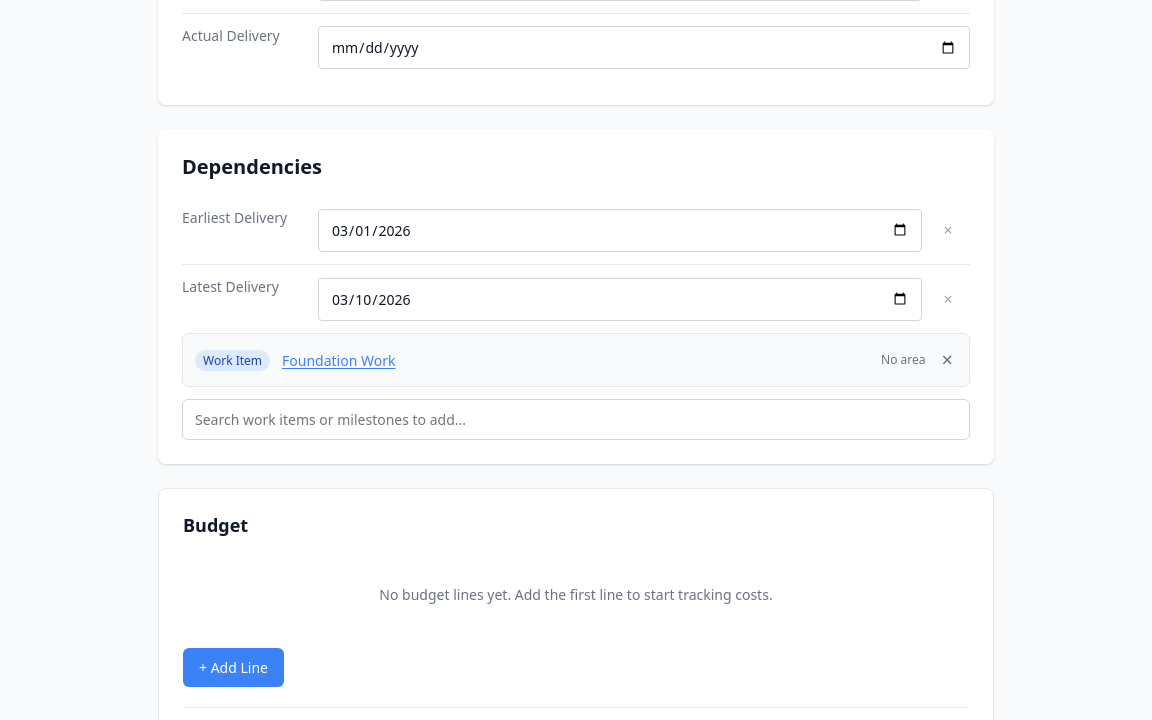
Test: HouseholdItemDetailPage › Dependencies section › clicking "×" remove button shows Confirm and Cancel actions
The width and height of the screenshot is (1152, 720).
(page scrolled)
expect the link "Foundation Work" is shown: met, box [282,350,396,370]
Click the button named "Remove dependency on Foundation Work": (947, 360) [938,346,957,374]
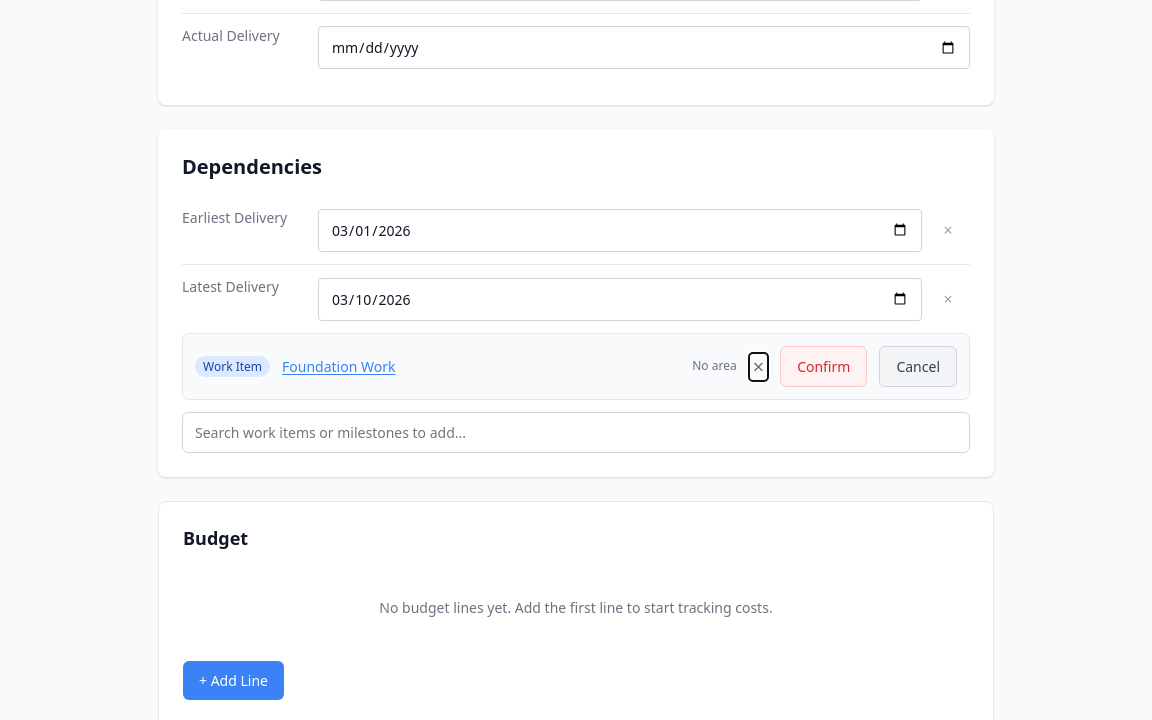
expect the button "Confirm" is shown: met, box [780,346,867,387]
expect the button "Cancel" is shown: met, box [879,346,957,387]
